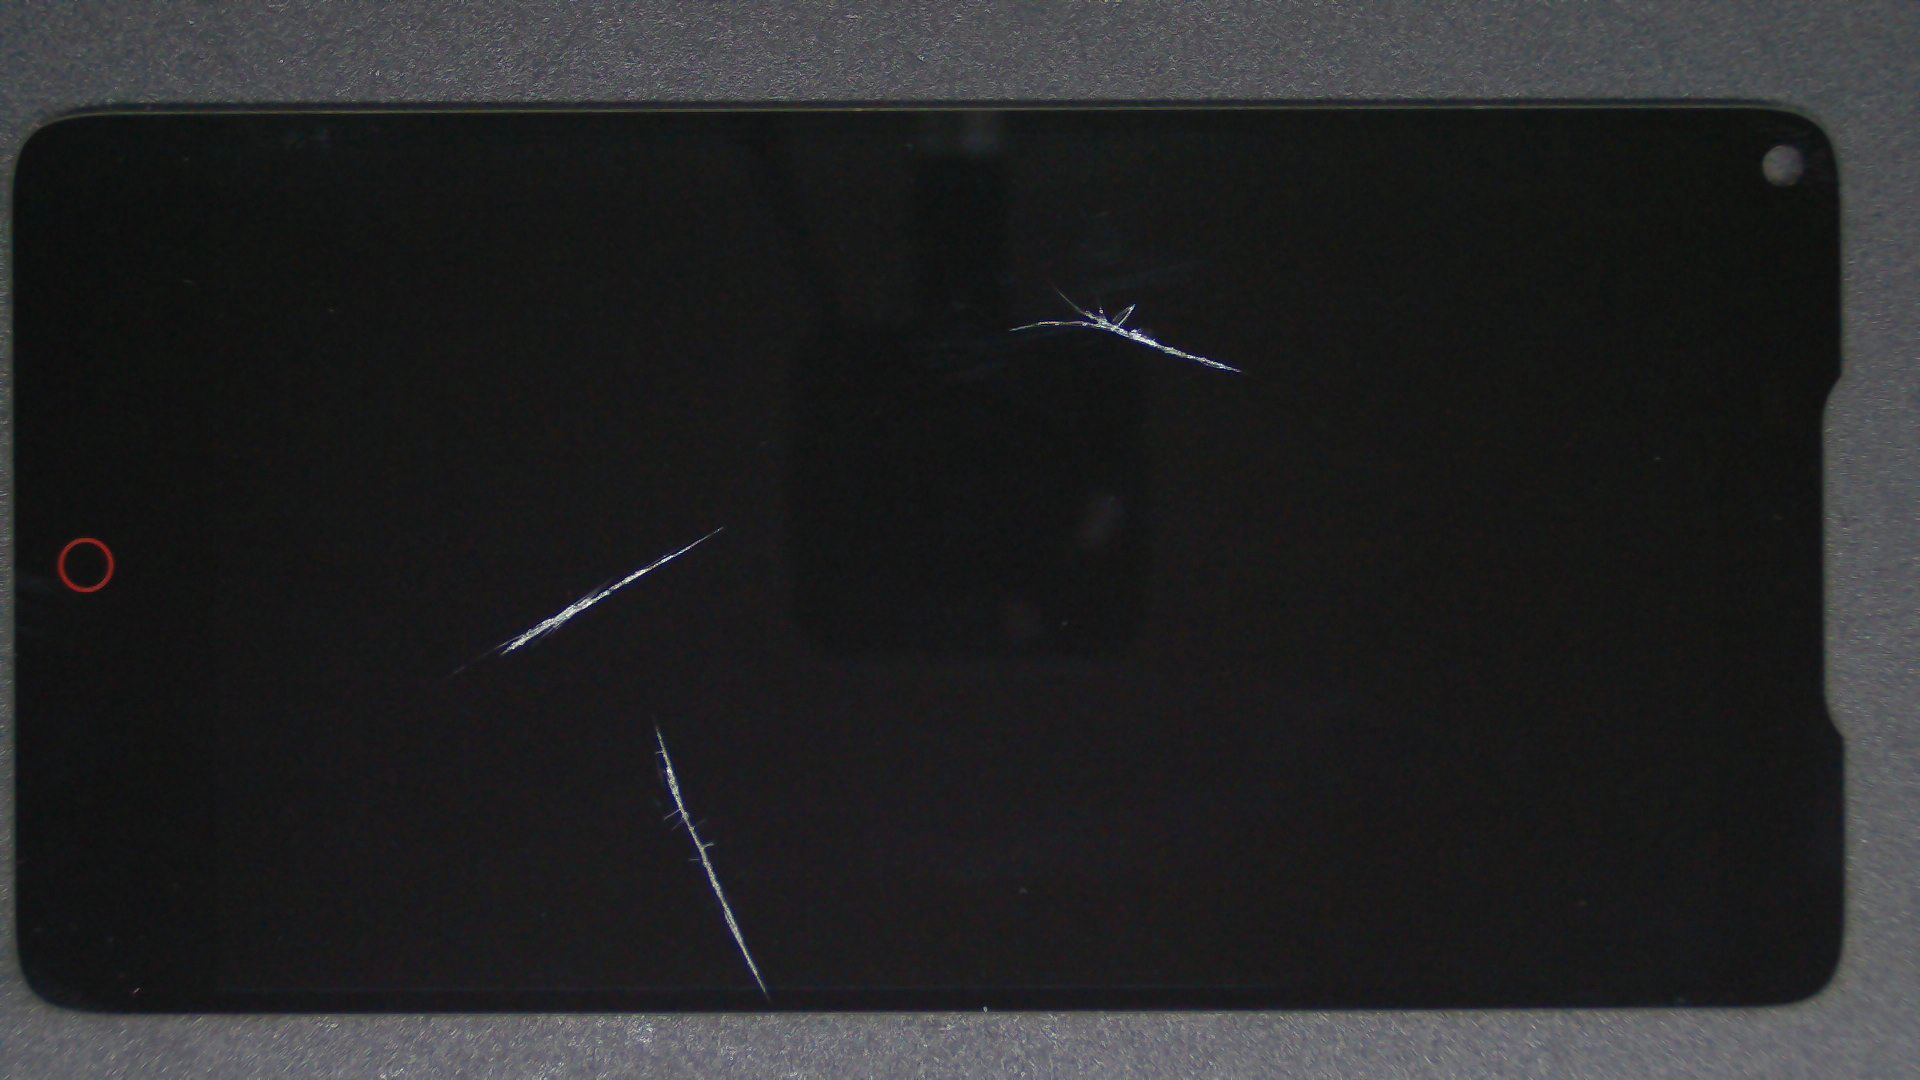defect: (653, 725, 767, 996), (495, 525, 724, 657), (1007, 289, 1242, 373)
